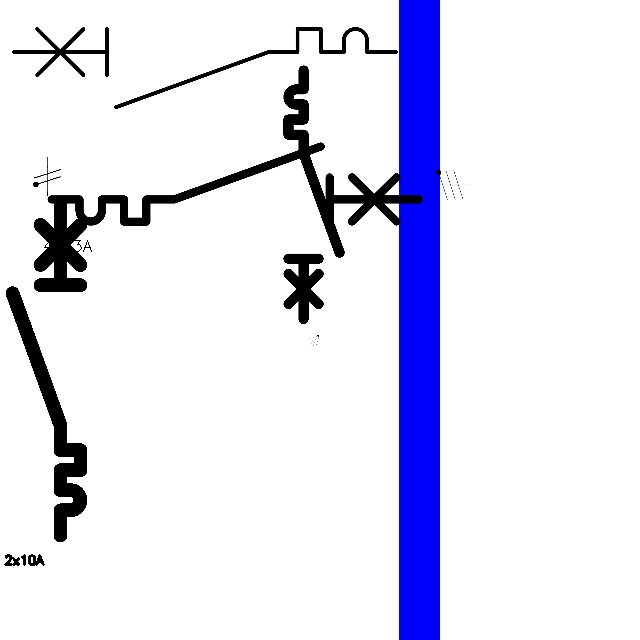interruptor_termomagnetico: (4, 19, 406, 117), (42, 137, 428, 231), (4, 196, 89, 543), (282, 64, 346, 325)
